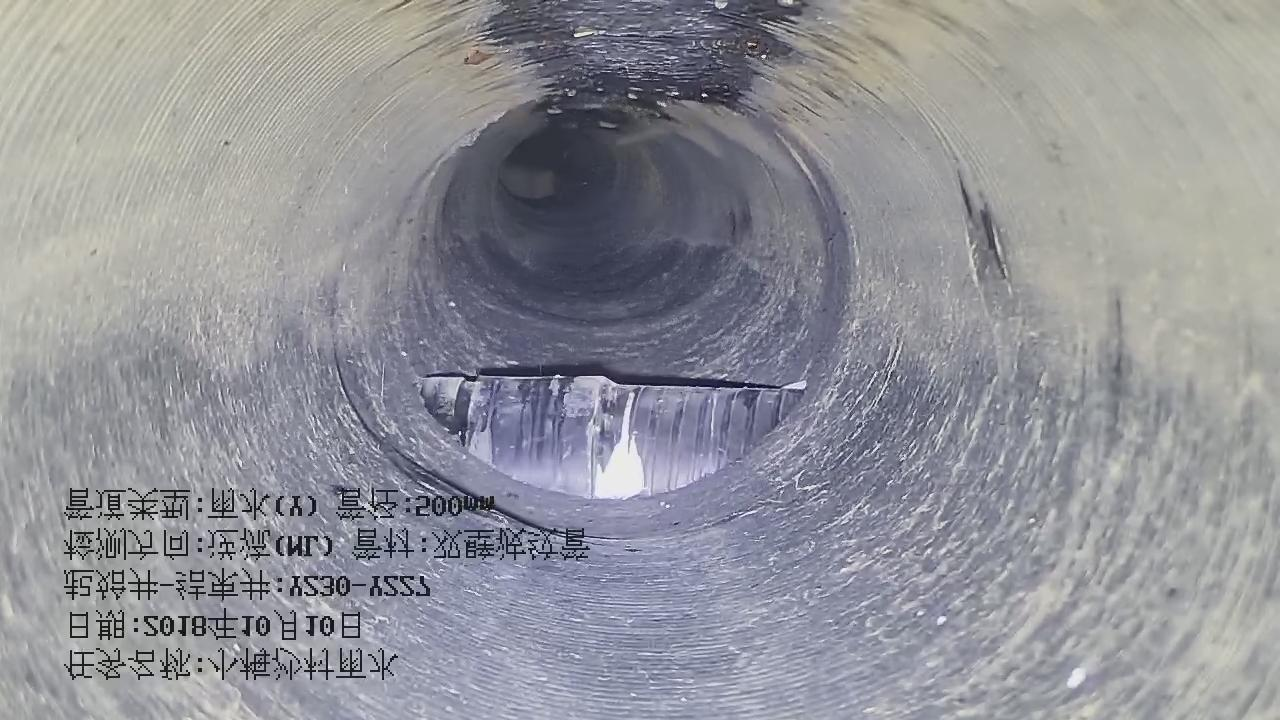YWCR: (420, 375, 803, 500)
